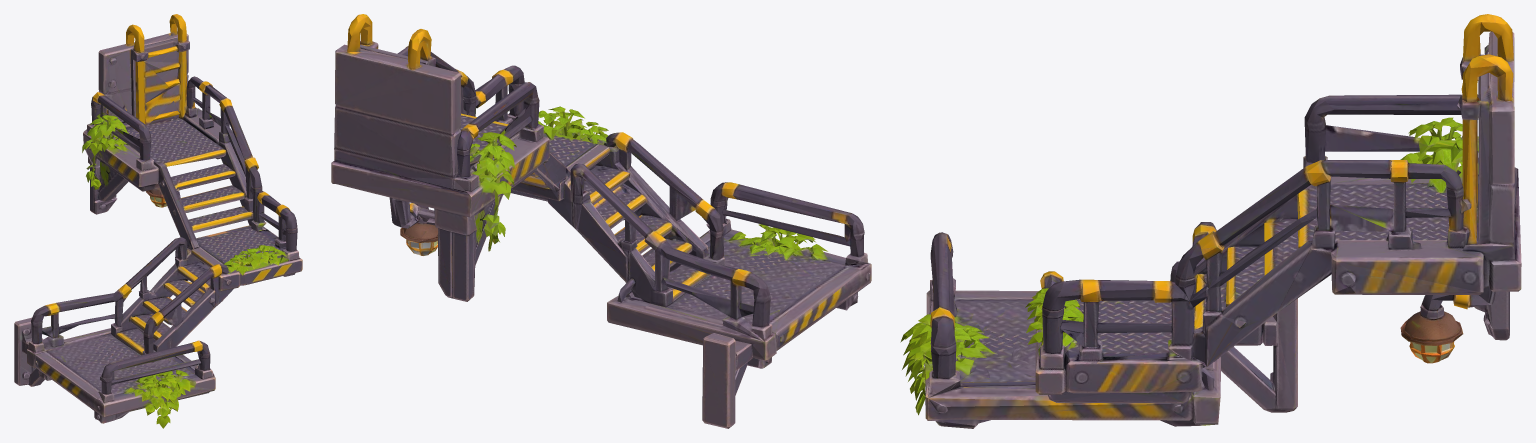
File: wall_industrial_stairs.glb
3 views of the same model, side by side, from view 1: azimuth 30°, elevation 25°; view 2: azimuth 150°, elevation 25°; view 3: azimuth 270°, elevation 25° (orthographic). The views are drawn at different scales.
Visible parts, largest first — view 1: output_unwrapped; view 2: output_unwrapped; view 3: output_unwrapped.
Part boxes in pixels (x1,y1,x2,y2): output_unwrapped: (14, 14, 302, 428); output_unwrapped: (331, 14, 871, 428); output_unwrapped: (900, 14, 1521, 428).
Size of what is drawn, in the model's own units: 0.9064 by 1 by 1.04.
1 material, 1 textured.
